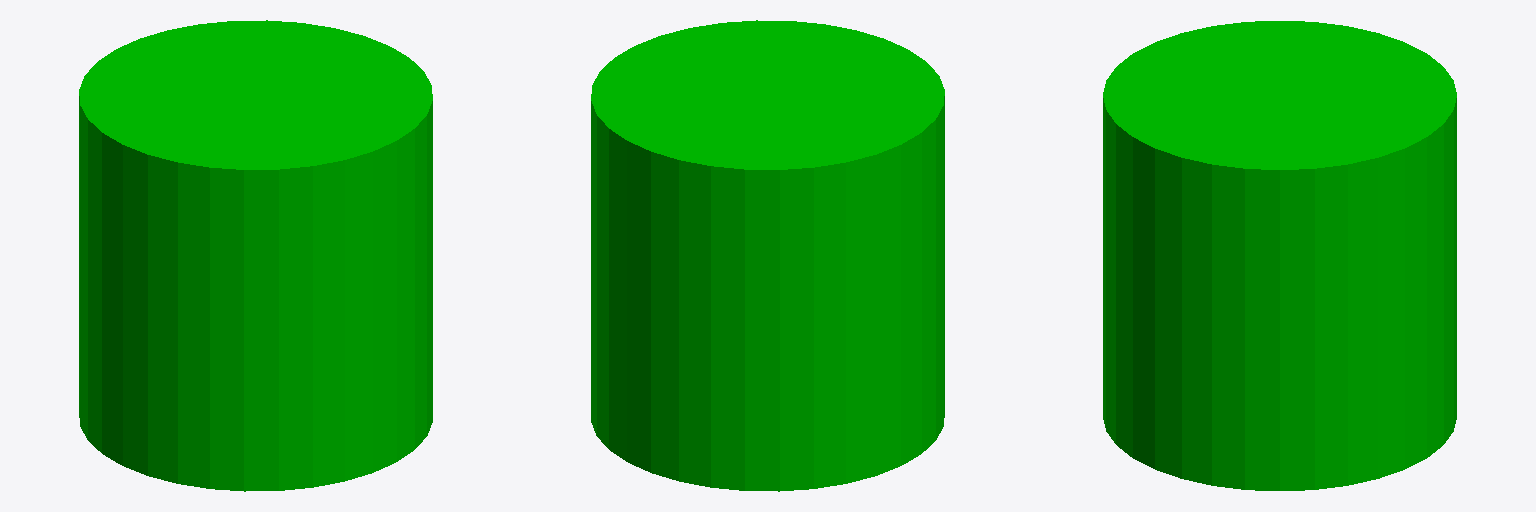
The robot description file, URDF, robot "myfirst":
<?xml version="1.0"?>
 <robot name="myfirst">
 
   <material name="green">
     <color rgba="0 0.8 0 1"/>
   </material>
   
   <link name="base_link">
     <visual>
       <geometry>
         <cylinder length="0.4" radius="0.2"/>
       </geometry>
       <material name="green"/>
     </visual>
     <collision>
       <geometry>
         <cylinder length="0.4" radius="0.2"/>
       </geometry>
     </collision>     
     <inertial>
       <mass value="1"/>
       <inertia ixx="1.0" ixy="0.0" ixz="0.0" iyy="1.0" iyz="0.0" izz="1.0"/>
     </inertial>
   </link>

 </robot>

--- Facts derived from the render (not from the file) ---
3 views of the same robot in one strip: view 1: azimuth 30°, elevation 25°; view 2: azimuth 150°, elevation 25°; view 3: azimuth 270°, elevation 25° (orthographic).
Model myfirst with 1 links and 0 joints (none), rooted at base_link, posed every joint at zero.
Links seen in each view (by area): view 1: base_link; view 2: base_link; view 3: base_link.
Link boxes in pixels (bbox=[...]): base_link: bbox=[79, 20, 432, 491]; base_link: bbox=[591, 20, 944, 491]; base_link: bbox=[1103, 21, 1456, 490].
Size in the robot's own frame: 0.4 by 0.4 by 0.4 metres.
Geometry: primitives only (box / cylinder / sphere), no mesh files.
